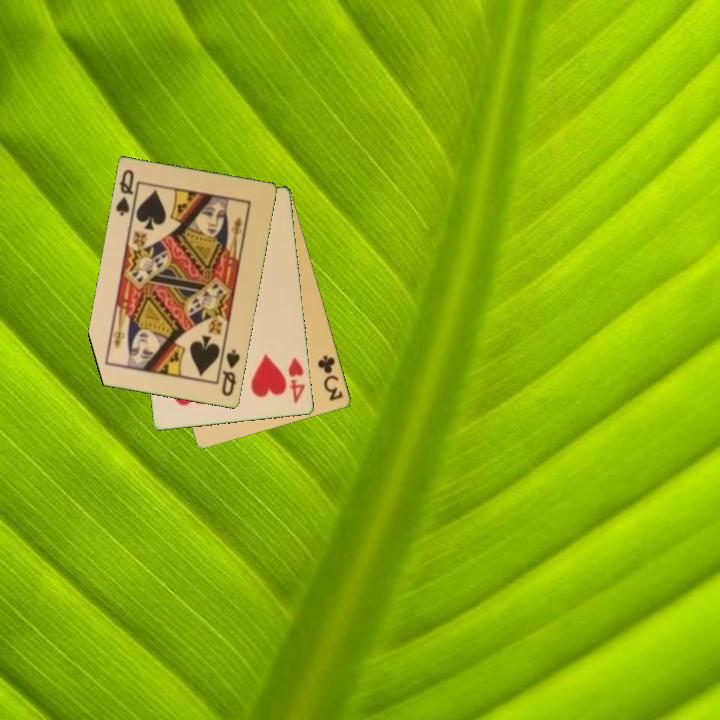3c: (314, 352, 346, 404)
4h: (285, 354, 308, 406)
Qs: (112, 166, 141, 221), (218, 346, 243, 400)
